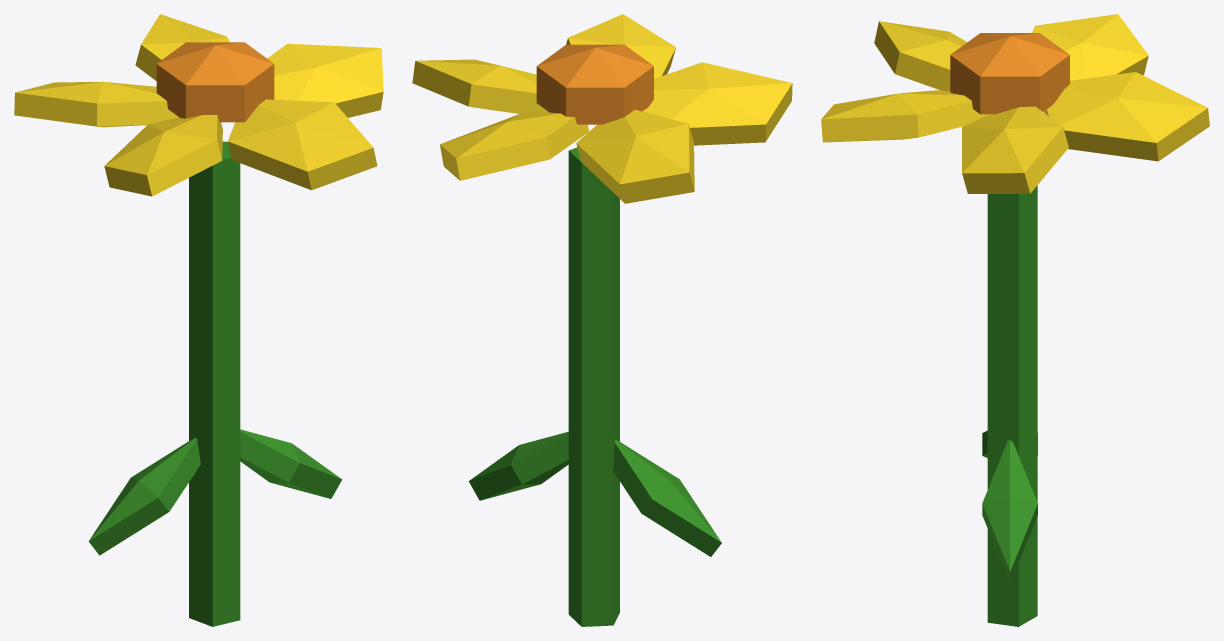
File: flower_yellow.glb
3 renders of one model, left to right at view 1: azimuth 30°, elevation 25°; view 2: azimuth 150°, elevation 25°; view 3: azimuth 270°, elevation 25°, orthographic.
Parts seen in each view (by area): view 1: Cylinder; view 2: Cylinder; view 3: Cylinder.
Part boxes in pixels (<box>): Cylinder: <box>14,14,383,626</box>; Cylinder: <box>412,14,792,626</box>; Cylinder: <box>821,14,1209,626</box>.
Size of the model in its own units: 0.2477 by 0.417 by 0.2535.
